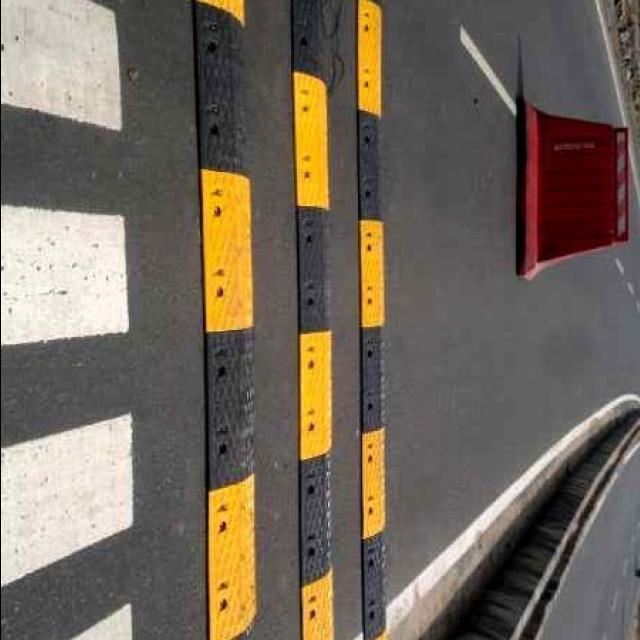speedbreaker: (192, 0, 265, 633), (290, 0, 338, 640), (354, 0, 391, 640)
